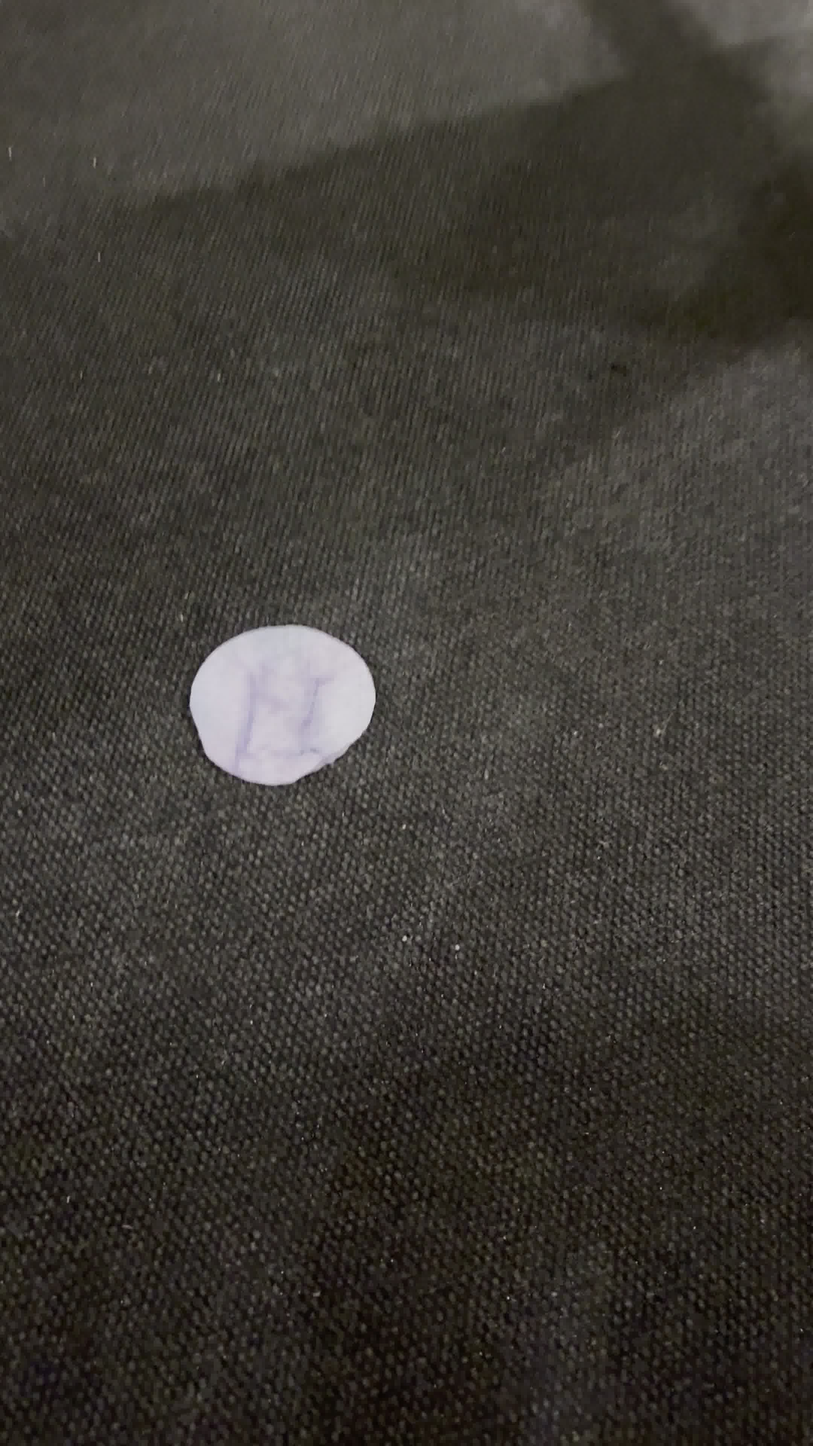Target: (185, 619, 379, 786)
